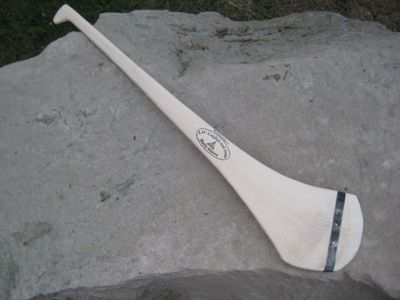hurley: (52, 4, 365, 272)
